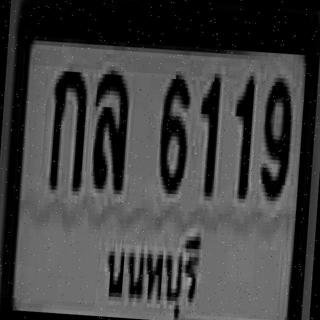A01: (46, 62, 88, 187)
A36: (89, 65, 129, 186)
N01: (194, 68, 220, 192), (229, 71, 254, 195)
N06: (155, 70, 190, 190)
N09: (258, 73, 292, 198)
P37: (94, 220, 207, 320)
